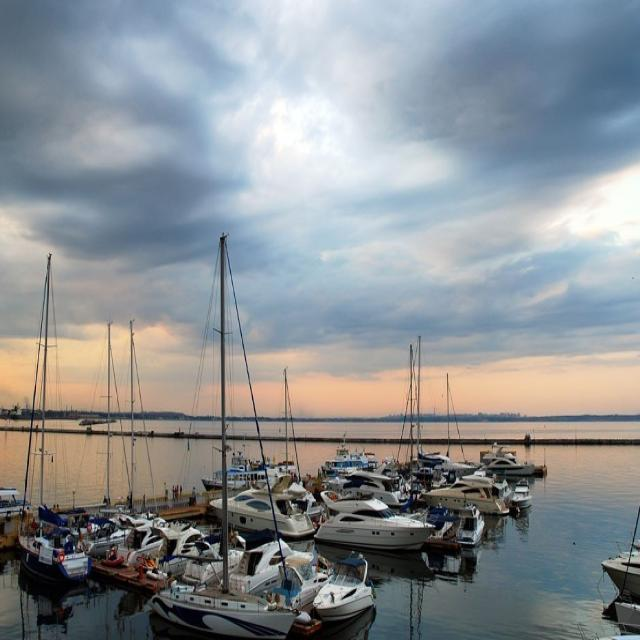passenger ship: (318, 489, 413, 549), (321, 548, 377, 640), (428, 472, 511, 518), (475, 440, 531, 471)
